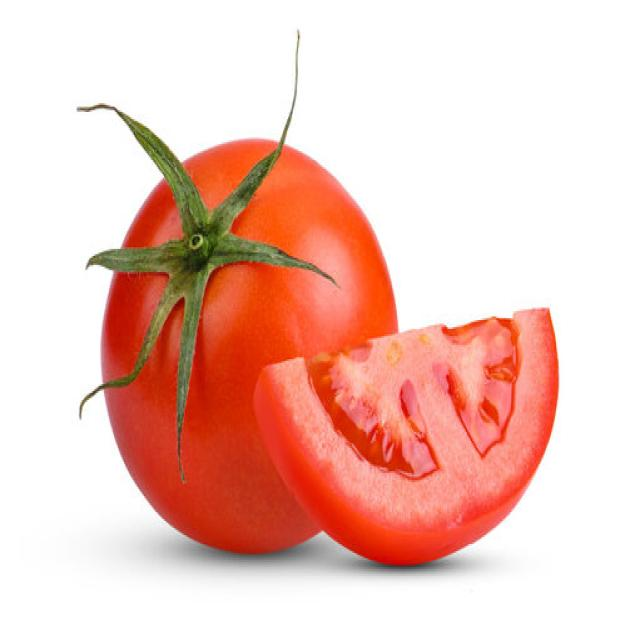tomato: (97, 134, 398, 559), (251, 301, 567, 570)
